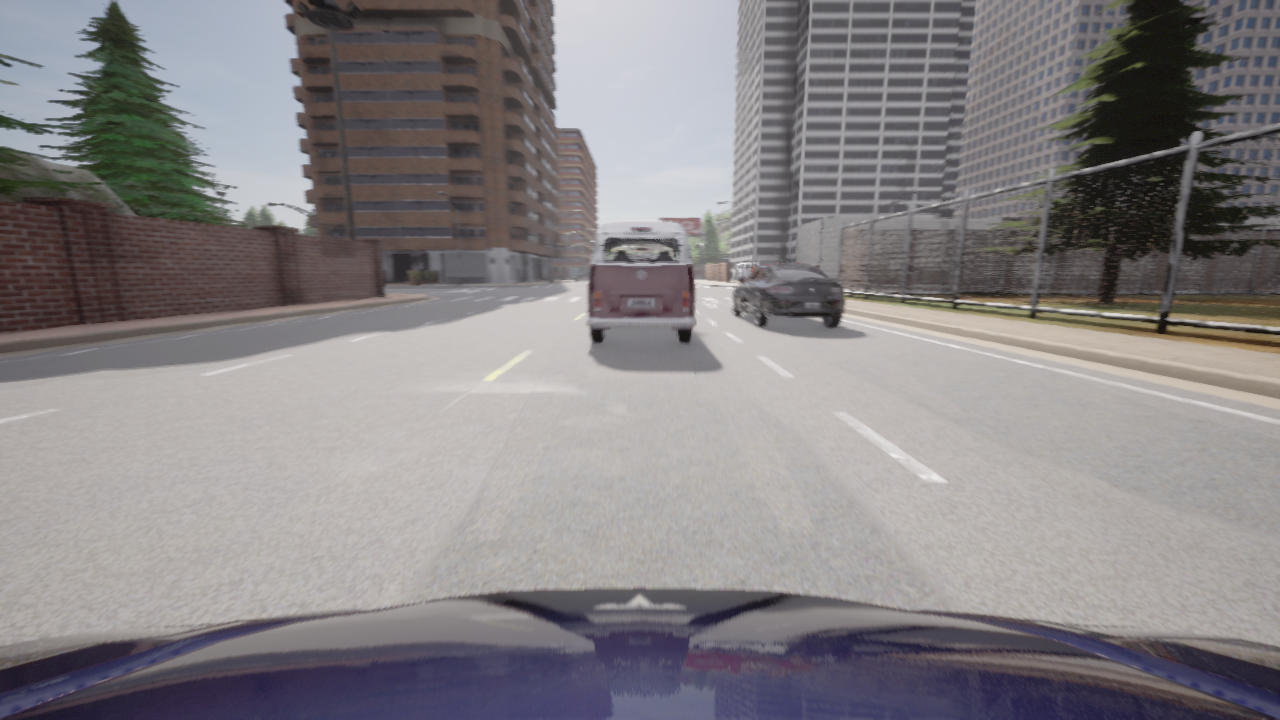cyclist: (0, 588, 1279, 719), (587, 220, 696, 343), (732, 263, 844, 326), (739, 259, 793, 279), (733, 260, 755, 280)
pedestrian: (752, 265, 754, 271), (816, 264, 818, 267), (818, 265, 819, 267)
